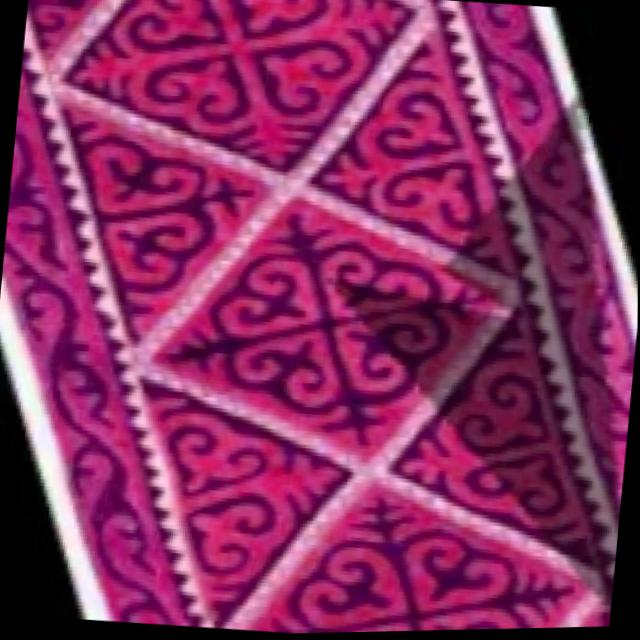Unity: (154, 198, 490, 460), (70, 0, 407, 169), (135, 377, 344, 625), (393, 310, 588, 568), (317, 25, 515, 277), (242, 488, 577, 632), (63, 101, 261, 340)
